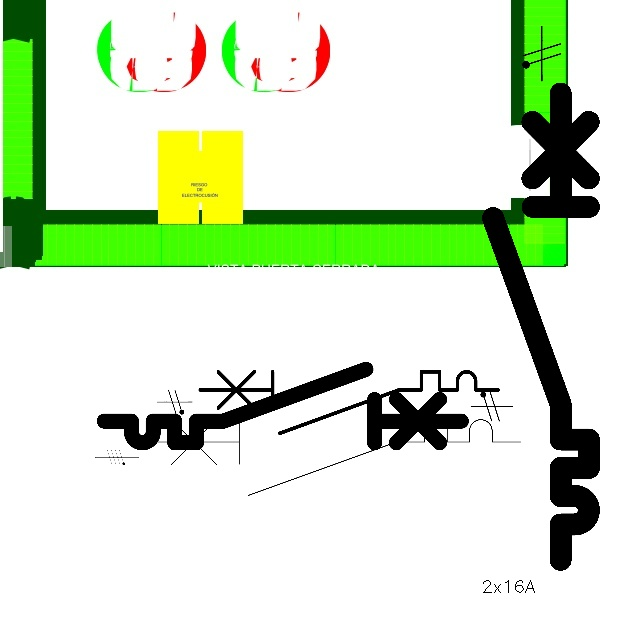interruptor_termomagnetico: (481, 81, 601, 572), (139, 410, 530, 505), (95, 360, 470, 452), (192, 364, 506, 440)
